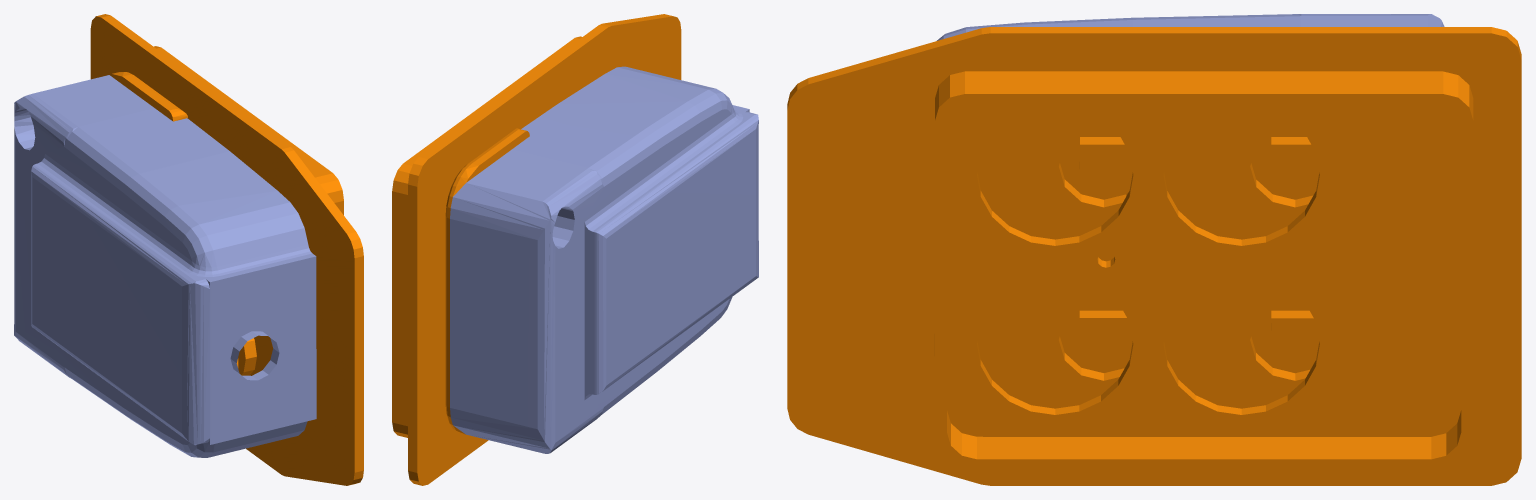
Rendered from main_insertion_link_1_2_combined.obj.
3 renders of one model, left to right at view 1: azimuth 30°, elevation 25°; view 2: azimuth 150°, elevation 25°; view 3: azimuth 270°, elevation 25°, orthographic. The views are drawn at different scales.
Parts seen in each view (by area): view 1: Main_Insertion_Link_1_Main_Insertion_Link.002; view 2: Main_Insertion_Link_1_Main_Insertion_Link.002; view 3: Main_Insertion_Link_1_Main_Insertion_Link.002.
Part boxes in pixels (x1,y1,x2,y2): Main_Insertion_Link_1_Main_Insertion_Link.002: (14,14,363,485); Main_Insertion_Link_1_Main_Insertion_Link.002: (392,14,758,485); Main_Insertion_Link_1_Main_Insertion_Link.002: (787,14,1521,485).
Bounding box in the file's own units: 0.0444 × 0.083 × 0.122.
